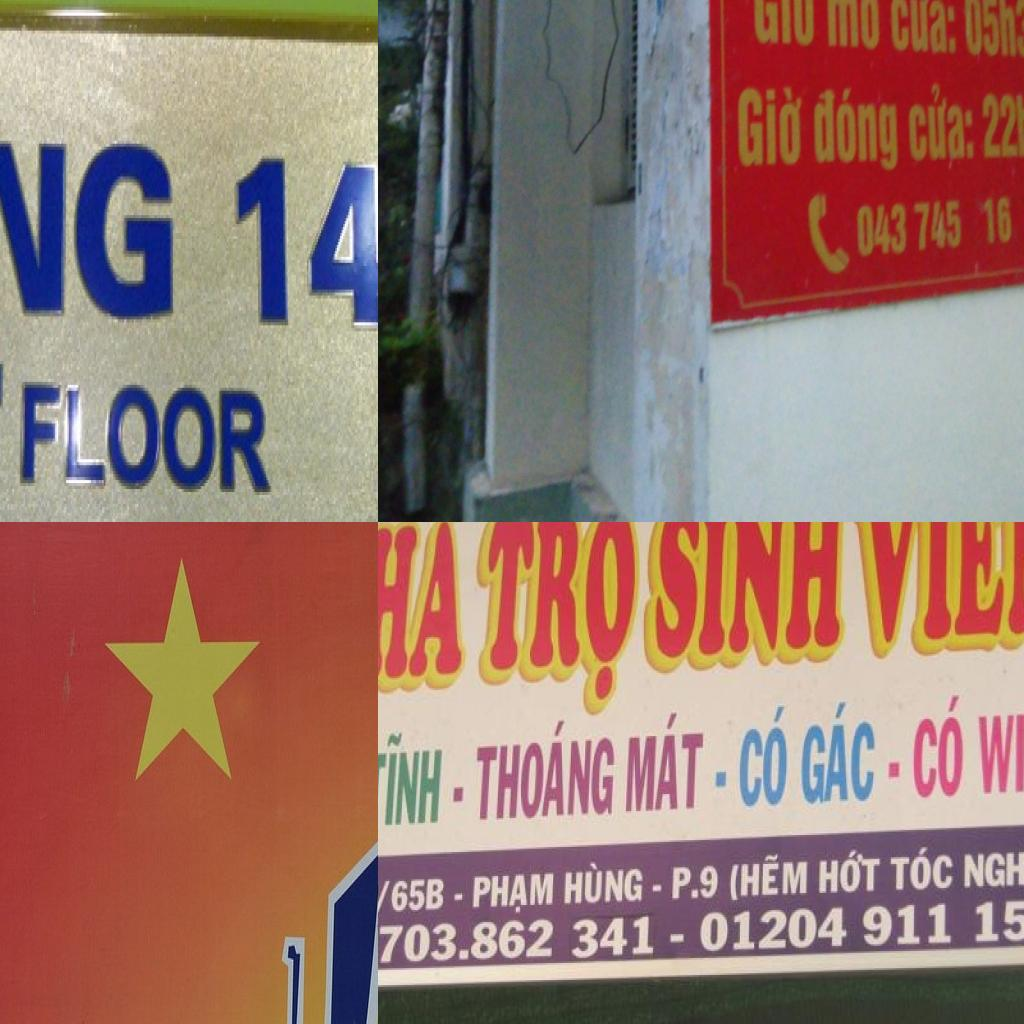text: (0, 60, 176, 322), (486, 522, 638, 706), (650, 522, 847, 662), (234, 152, 378, 328), (853, 522, 1024, 649), (378, 911, 658, 968), (474, 719, 617, 823), (378, 522, 466, 689), (624, 709, 706, 816), (800, 698, 878, 810), (814, 88, 897, 174), (378, 729, 448, 829), (910, 694, 968, 802), (856, 200, 961, 258), (737, 702, 791, 813), (736, 86, 802, 168), (908, 86, 975, 162), (728, 852, 812, 905), (471, 869, 557, 919), (976, 710, 1024, 797), (562, 859, 645, 908), (964, 0, 1024, 62), (890, 0, 956, 54), (888, 844, 956, 894), (817, 847, 883, 898), (962, 840, 1024, 893), (752, 0, 816, 46), (378, 876, 448, 918), (825, 0, 882, 51), (981, 94, 1024, 159), (671, 862, 722, 902)
